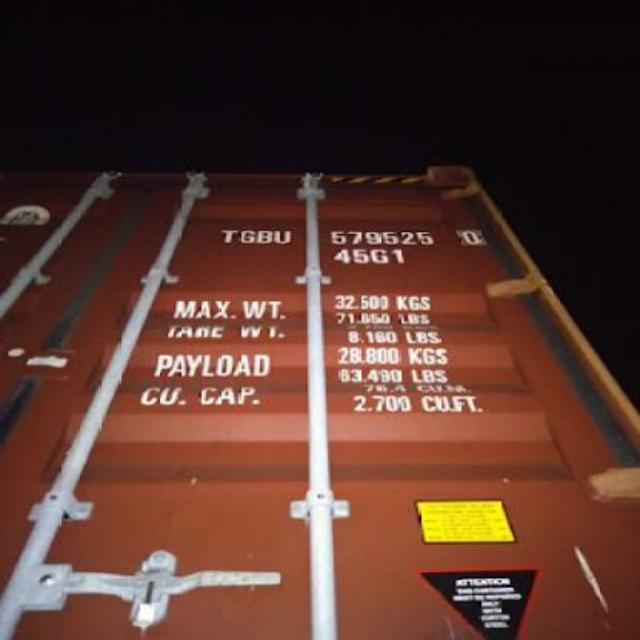0: (458, 227, 482, 245)
2: (400, 230, 418, 246)
5: (327, 230, 348, 244), (416, 230, 434, 246), (382, 230, 398, 246)
7: (348, 229, 364, 245)
9: (364, 230, 382, 246)
B: (256, 228, 272, 244)
G: (239, 228, 255, 242)
T: (218, 227, 238, 243)
U: (272, 228, 292, 244)
